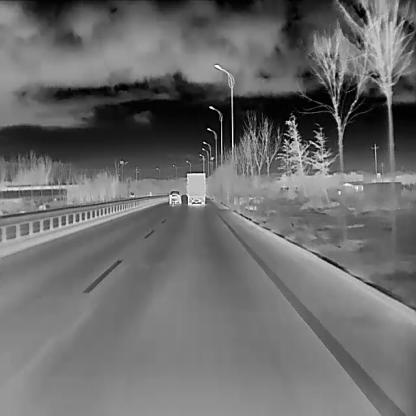car: (168, 190, 182, 203)
truck: (186, 171, 206, 205)
